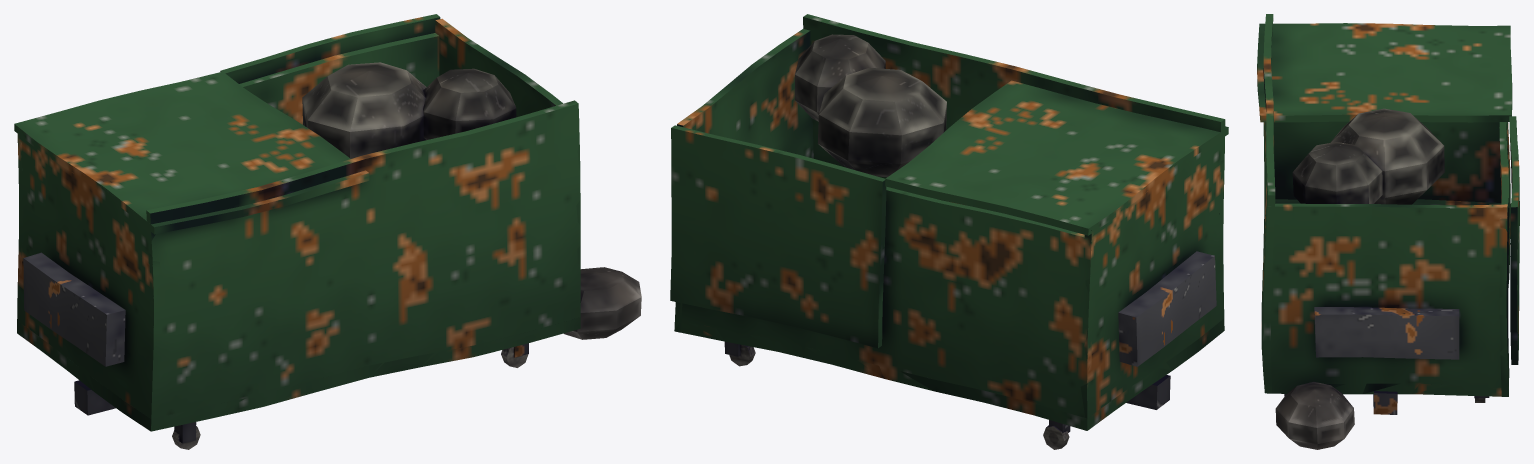
Rendered from Dumpster.glb.
3 renders of one model, left to right at view 1: azimuth 30°, elevation 25°; view 2: azimuth 150°, elevation 25°; view 3: azimuth 270°, elevation 25°, orthographic. The views are drawn at different scales.
Parts seen in each view (by area): view 1: Bin, Bags, Frame, Wheels; view 2: Bin, Bags, Frame, Wheels; view 3: Bin, Bags, Frame.
Part boxes in pixels (x1=…): Bin: x1=14, y1=14, x2=580, y2=431; Bags: x1=302, y1=62, x2=641, y2=339; Frame: x1=23, y1=252, x2=528, y2=443; Wheels: x1=172, y1=347, x2=528, y2=449; Bin: x1=670, y1=14, x2=1228, y2=430; Bags: x1=795, y1=34, x2=946, y2=177; Frame: x1=724, y1=251, x2=1216, y2=433; Wheels: x1=729, y1=344, x2=1069, y2=449; Bin: x1=1257, y1=14, x2=1519, y2=396; Bags: x1=1275, y1=108, x2=1444, y2=449; Frame: x1=1284, y1=307, x2=1489, y2=414.
Size of the model in its own units: 4.55 by 2.31 by 2.18.
4 materials, 4 textured.
